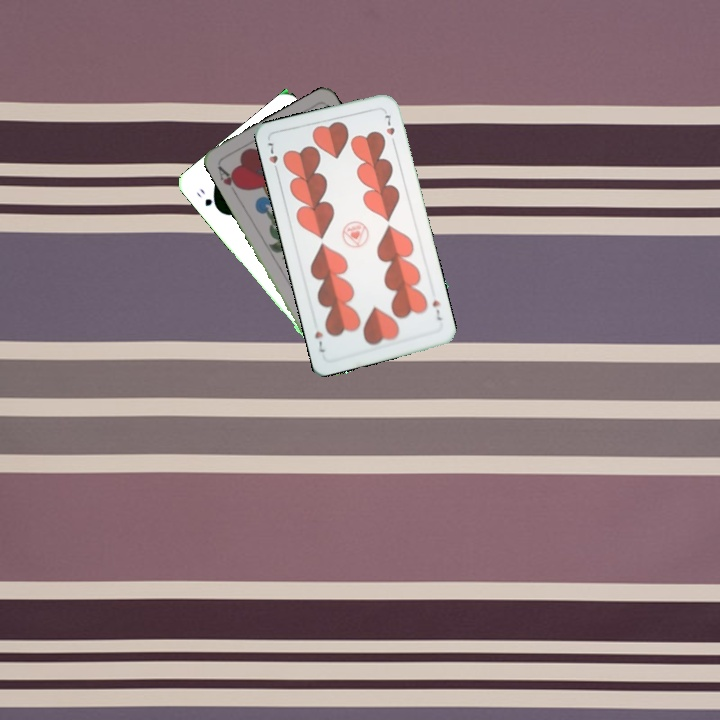GO: (192, 185, 223, 214)
H7: (263, 138, 281, 177), (428, 296, 444, 323)
HA: (213, 161, 244, 198)
